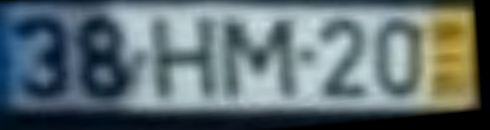0: (377, 17, 427, 105)
2: (319, 15, 370, 106)
3: (10, 13, 78, 106)
8: (76, 15, 134, 107)
H: (149, 15, 223, 105)
M: (222, 15, 300, 106)
